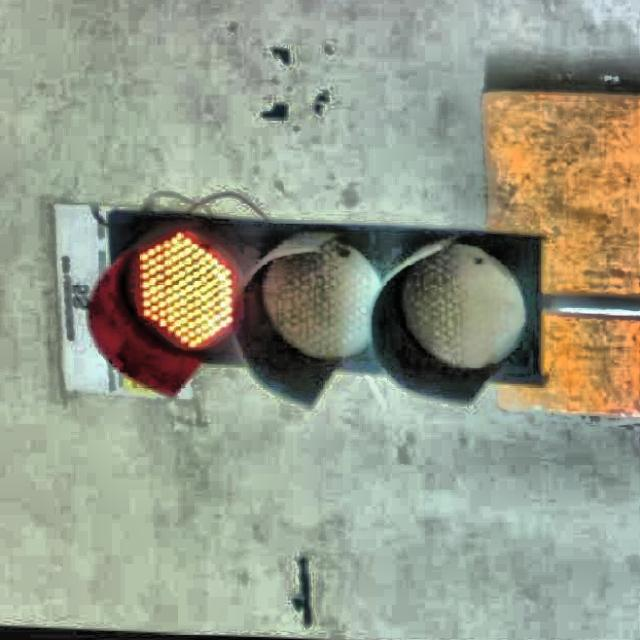red: (109, 219, 546, 387)
